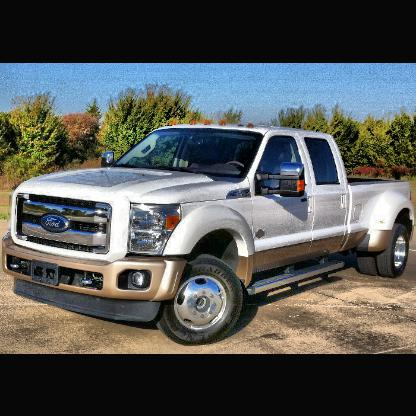Ford F-450 Super Duty Crew Cab 2012: (3, 122, 416, 346)
